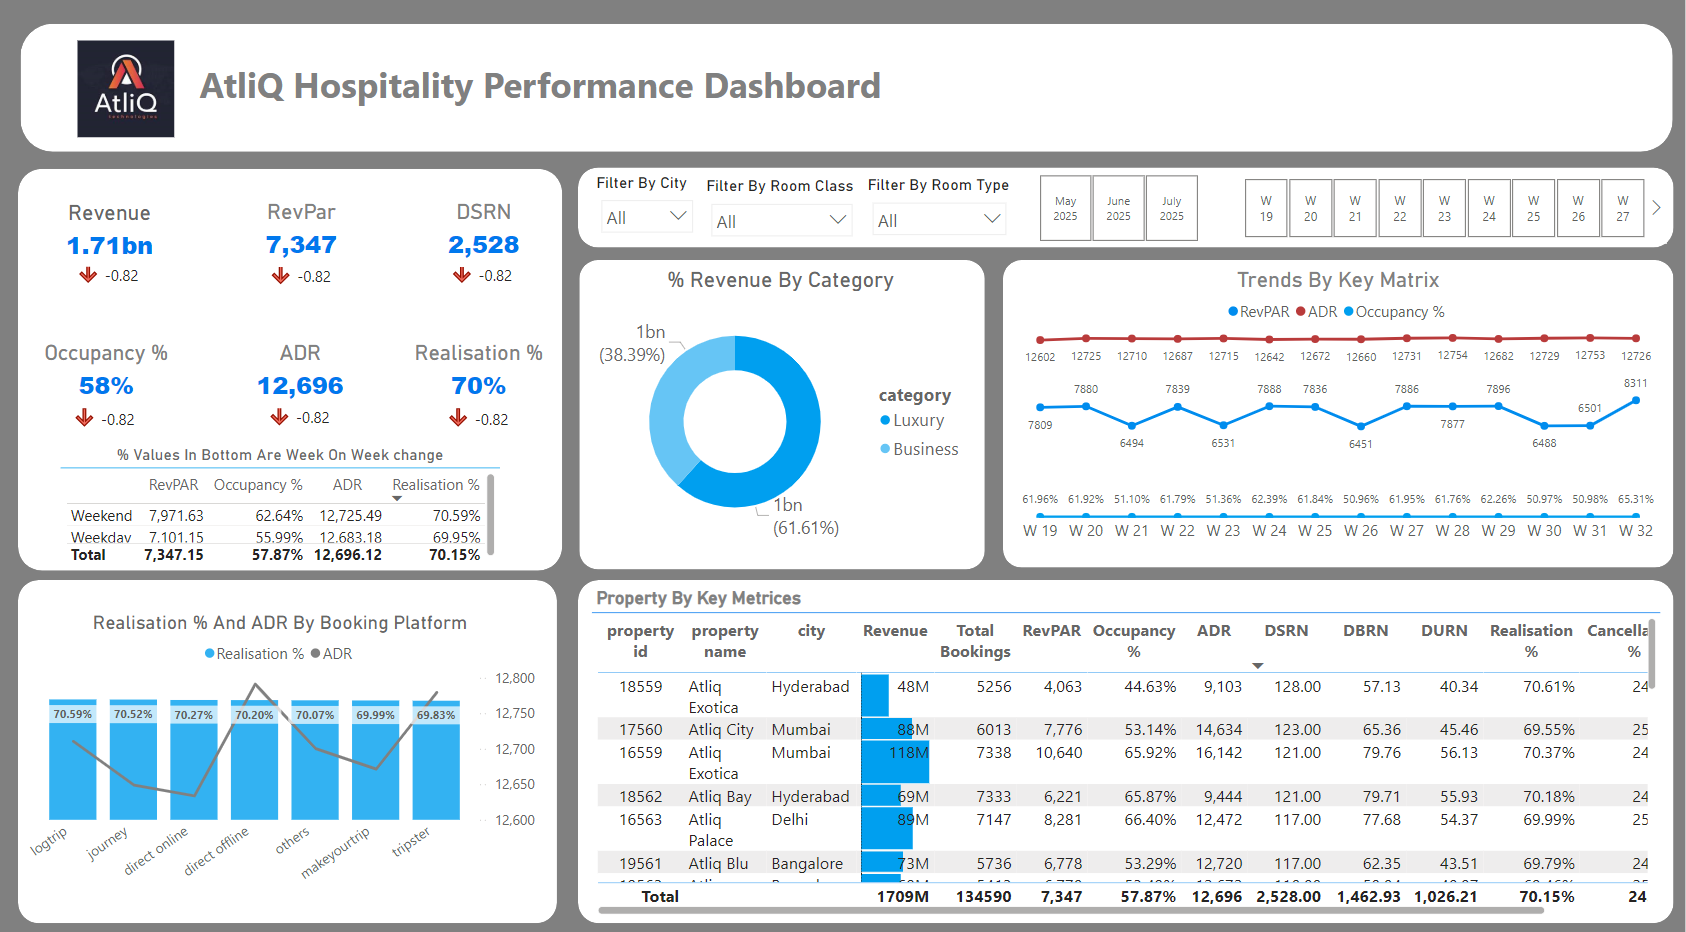

The page's visual inventory and layout, read from the dashboard file:
{"tool":"powerbi","page":{"name":"Page 1","canvas":[1800,1000],"ordinal":0},"visuals":[{"type":"shape","box":[24.7,25.6,1762.4,136.6],"z":0},{"type":"shape","box":[620.4,277,432.5,330.1],"z":1000},{"type":"shape","box":[20.9,618.5,574.8,366.1],"z":2000},{"type":"shape","box":[618.5,618.5,1168.6,366.1],"z":3000},{"type":"shape","box":[1071.9,277,715.2,328.2],"z":4000},{"type":"shape","box":[21.2,180.2,580.5,428.8],"z":5000},{"type":"shape","box":[618.5,179,1168.6,85.4],"z":6000},{"type":"tableEx","title":"Property By Key Metrices","fields":{"Values":["dim_hotet.property_id","dim_hotet.property_name","dim_hotet.city","key_measures.Revenue","key_measures.Total Bookings","key_measures.RevPAR","key_measures.Occupancy %","key_measures.ADR","key_measures.DSRN","key_measures.DBRN","key_measures.DURN","key_measures.Realisation %"]},"box":[633.6,626.1,1140.2,352.9],"z":7000},{"type":"slicer","title":"Filter By City","fields":{"Values":["dim_hotet.city"]},"box":[633.6,183.7,117.6,75.9],"z":8000},{"type":"slicer","fields":{"Values":["dim_date.mmm yy"]},"box":[1085.2,179.9,218.2,83.5],"z":9000},{"type":"slicer","fields":{"Values":["dim_date.week no"]},"box":[1303.3,183.7,476.2,75.9],"z":10000},{"type":"tableEx","fields":{"Values":["key_measures.Revenue WoW change %"]},"box":[74.5,246.9,87.6,71.1],"z":11000},{"type":"donutChart","title":"% Revenue By Category","fields":{"Y":["key_measures.Revenue"],"Category":["dim_hotet.category"]},"box":[628,284.6,413.6,305.4],"z":12000},{"type":"lineChart","title":"Trends By Key Matrix","fields":{"Category":["dim_date.mmm yy.Variation.Date Hierarchy.Month","dim_date.week no"],"Y":["key_measures.RevPAR","key_measures.ADR","key_measures.Occupancy %"]},"box":[1085.2,284.6,688.7,303.5],"z":13000},{"type":"lineStackedColumnComboChart","title":"Realisation % And ADR By Booking Platform","fields":{"Category":["fact_bookings.booking_platform"],"Y":["key_measures.Realisation %"],"Y2":["key_measures.ADR"]},"box":[24.7,652.6,554,301.6],"z":14000},{"type":"tableEx","title":"% Values In Bottom Are Week On Week change","fields":{"Values":["dim_date.day_type","key_measures.RevPAR","key_measures.Occupancy %","key_measures.ADR","key_measures.Realisation %"]},"box":[66.8,474.3,468.6,130.9],"z":15000},{"type":"tableEx","fields":{"Values":["key_measures.Revenue WoW change %"]},"box":[280.4,248.5,87.6,71.1],"z":16000},{"type":"tableEx","fields":{"Values":["key_measures.Revenue WoW change %"]},"box":[473.8,246.9,87.6,71.1],"z":17000},{"type":"tableEx","fields":{"Values":["key_measures.Revenue WoW change %"]},"box":[71.2,400.6,87.6,71.1],"z":18000},{"type":"tableEx","fields":{"Values":["key_measures.Revenue WoW change %"]},"box":[278.5,398.7,87.6,71.1],"z":19000},{"type":"tableEx","fields":{"Values":["key_measures.Revenue WoW change %"]},"box":[469,400.1,87.6,71.1],"z":20000},{"type":"card","title":"Revenue","fields":{"Values":["key_measures.Revenue"]},"box":[44.8,212.7,147.2,71.1],"z":21000},{"type":"card","title":"RevPar","fields":{"Values":["key_measures.RevPAR"]},"box":[247.3,211.9,153.8,72.8],"z":22000},{"type":"card","title":"DSRN","fields":{"Values":["key_measures.DSRN"]},"box":[440.8,211.9,153.8,72.8],"z":23000},{"type":"card","title":"Occupancy %","fields":{"Values":["key_measures.Occupancy %"]},"box":[38.2,362.9,153.8,72.8],"z":24000},{"type":"card","title":"ADR","fields":{"Values":["key_measures.ADR"]},"box":[245.4,362.9,153.8,72.8],"z":25000},{"type":"card","title":"Realisation %","fields":{"Values":["key_measures.Realisation %"]},"box":[435.9,362.9,153.8,72.8],"z":26000},{"type":"slicer","title":"Filter By Room Type","fields":{"Values":["fact_aggregated_bookings.room_category"]},"box":[922,186.6,163.2,70.2],"z":27000},{"type":"slicer","title":"Filter By Room Class","fields":{"Values":["dim_rooms.room_class"]},"box":[751.3,187.5,170.7,68.3],"z":28000},{"type":"textbox","box":[45.5,60.7,1443.7,66.4],"z":29000},{"type":"image","box":[79.7,27.5,113.8,132.8],"z":29001}]}

Visuals, with their boxes in screenshot pixels (x1, y1, x2, y2), scaled from the page's 1800x1000 canvas onto the 1686x932 screenshot:
shape: (left=23, top=24, right=1674, bottom=151)
shape: (left=581, top=258, right=986, bottom=566)
shape: (left=20, top=576, right=558, bottom=918)
shape: (left=579, top=576, right=1674, bottom=918)
shape: (left=1004, top=258, right=1674, bottom=564)
shape: (left=20, top=168, right=564, bottom=568)
shape: (left=579, top=167, right=1674, bottom=246)
"Property By Key Metrices" tableEx: (left=593, top=584, right=1661, bottom=912)
"Filter By City" slicer: (left=593, top=171, right=704, bottom=242)
slicer - dim_date.mmm yy: (left=1016, top=168, right=1221, bottom=245)
slicer - dim_date.week no: (left=1221, top=171, right=1667, bottom=242)
tableEx - key_measures.Revenue WoW change %: (left=70, top=230, right=152, bottom=296)
"% Revenue By Category" donutChart: (left=588, top=265, right=976, bottom=550)
"Trends By Key Matrix" lineChart: (left=1016, top=265, right=1662, bottom=548)
"Realisation % And ADR By Booking Platform" lineStackedColumnComboChart: (left=23, top=608, right=542, bottom=889)
"% Values In Bottom Are Week On Week change" tableEx: (left=63, top=442, right=501, bottom=564)
tableEx - key_measures.Revenue WoW change %: (left=263, top=232, right=345, bottom=298)
tableEx - key_measures.Revenue WoW change %: (left=444, top=230, right=526, bottom=296)
tableEx - key_measures.Revenue WoW change %: (left=67, top=373, right=149, bottom=440)
tableEx - key_measures.Revenue WoW change %: (left=261, top=372, right=343, bottom=438)
tableEx - key_measures.Revenue WoW change %: (left=439, top=373, right=521, bottom=439)
"Revenue" card: (left=42, top=198, right=180, bottom=265)
"RevPar" card: (left=232, top=197, right=376, bottom=265)
"DSRN" card: (left=413, top=197, right=557, bottom=265)
"Occupancy %" card: (left=36, top=338, right=180, bottom=406)
"ADR" card: (left=230, top=338, right=374, bottom=406)
"Realisation %" card: (left=408, top=338, right=552, bottom=406)
"Filter By Room Type" slicer: (left=864, top=174, right=1016, bottom=239)
"Filter By Room Class" slicer: (left=704, top=175, right=864, bottom=238)
textbox: (left=43, top=57, right=1395, bottom=118)
image: (left=75, top=26, right=181, bottom=149)
